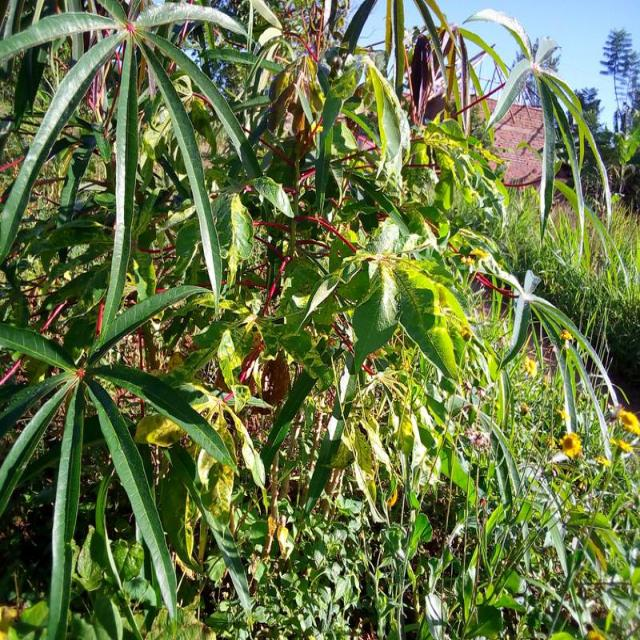cassava leaf: (2, 1, 634, 637)
